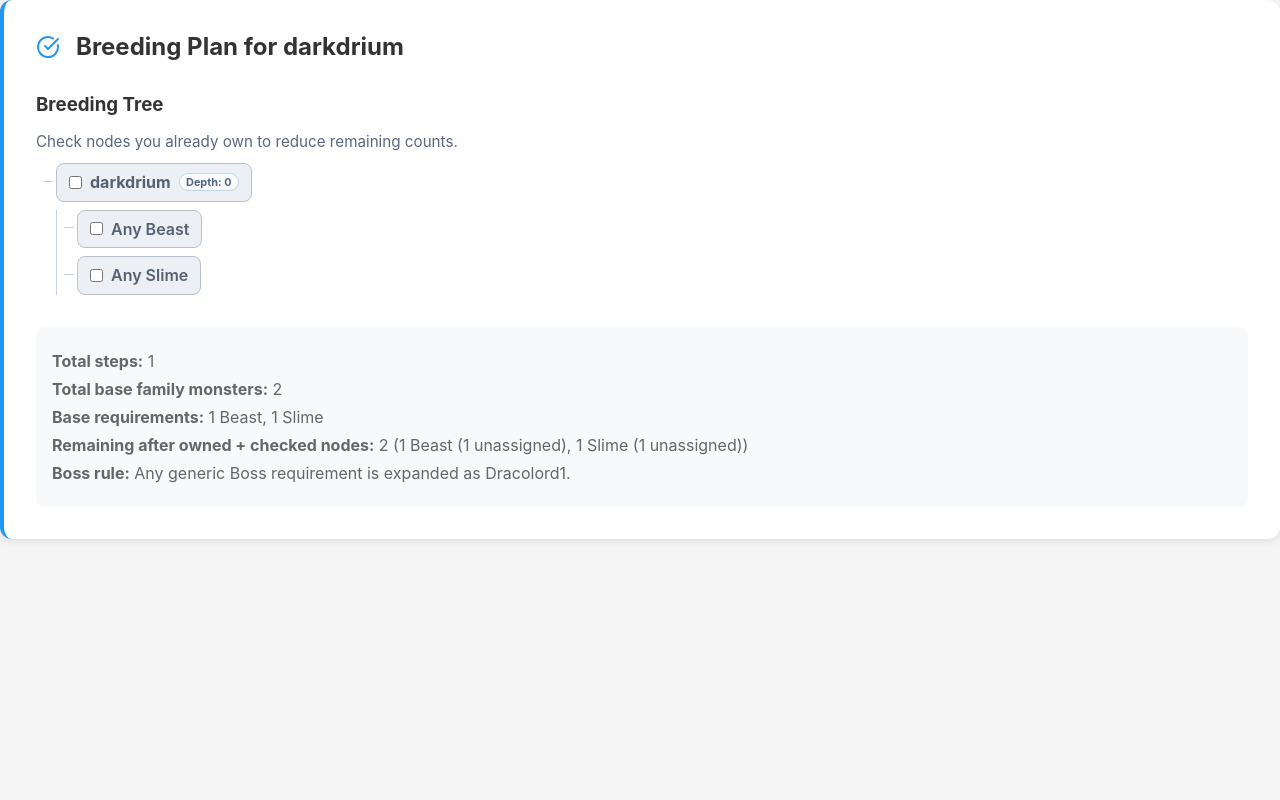
Scenario: BreedingPlan tree interactions › keeps generic label visible while also showing nickname
Click the checkbox next to "Any Beast" at (96, 228), box [90,222,103,235]
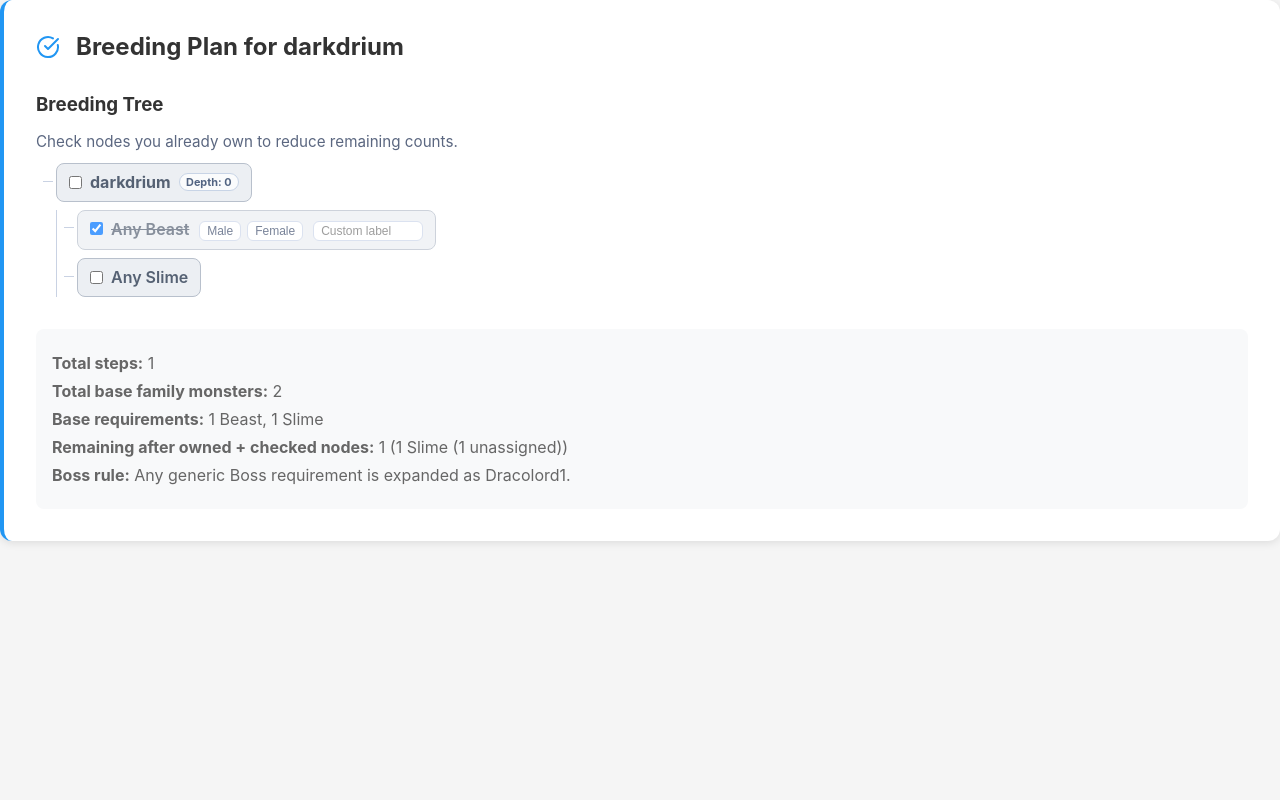
Type "My Beast Slot" into the field with placeholder "Custom label" at (368, 231), box [313,221,423,241]
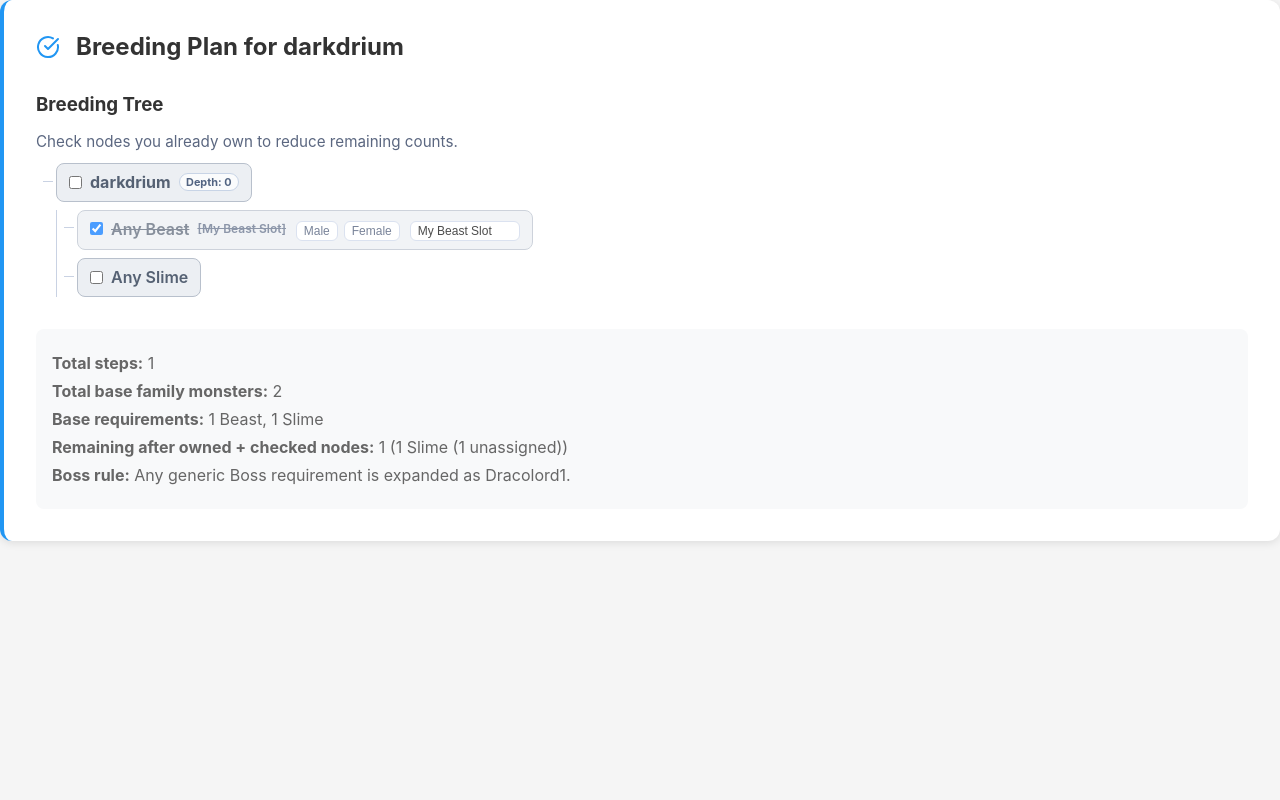
Expected: the text "Any Beast" is shown, [111,218,189,238]
Expected: the text "[My Beast Slot]" is shown, [197,221,286,236]
